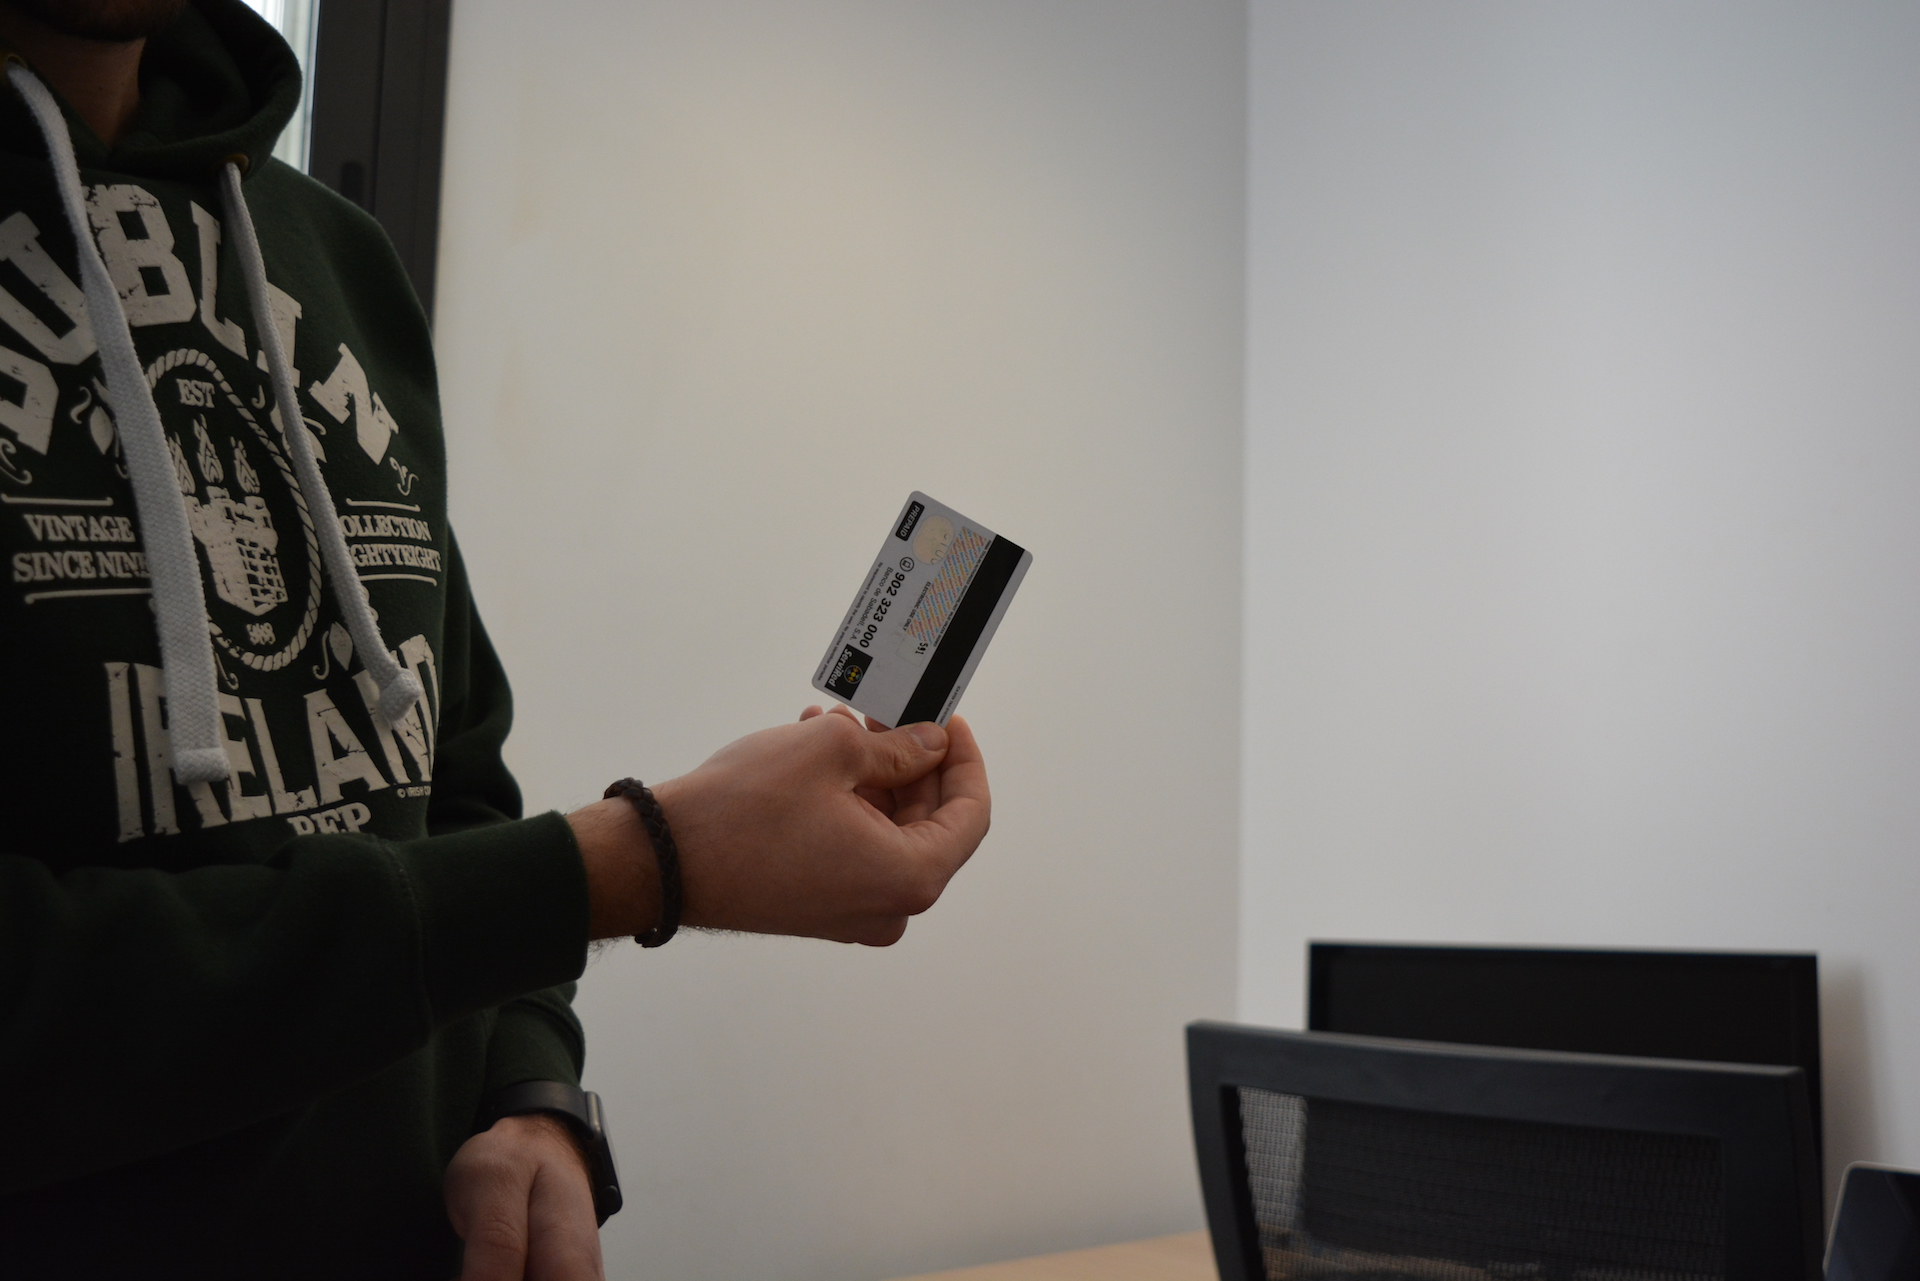tarjeta: (811, 489, 1034, 735)
